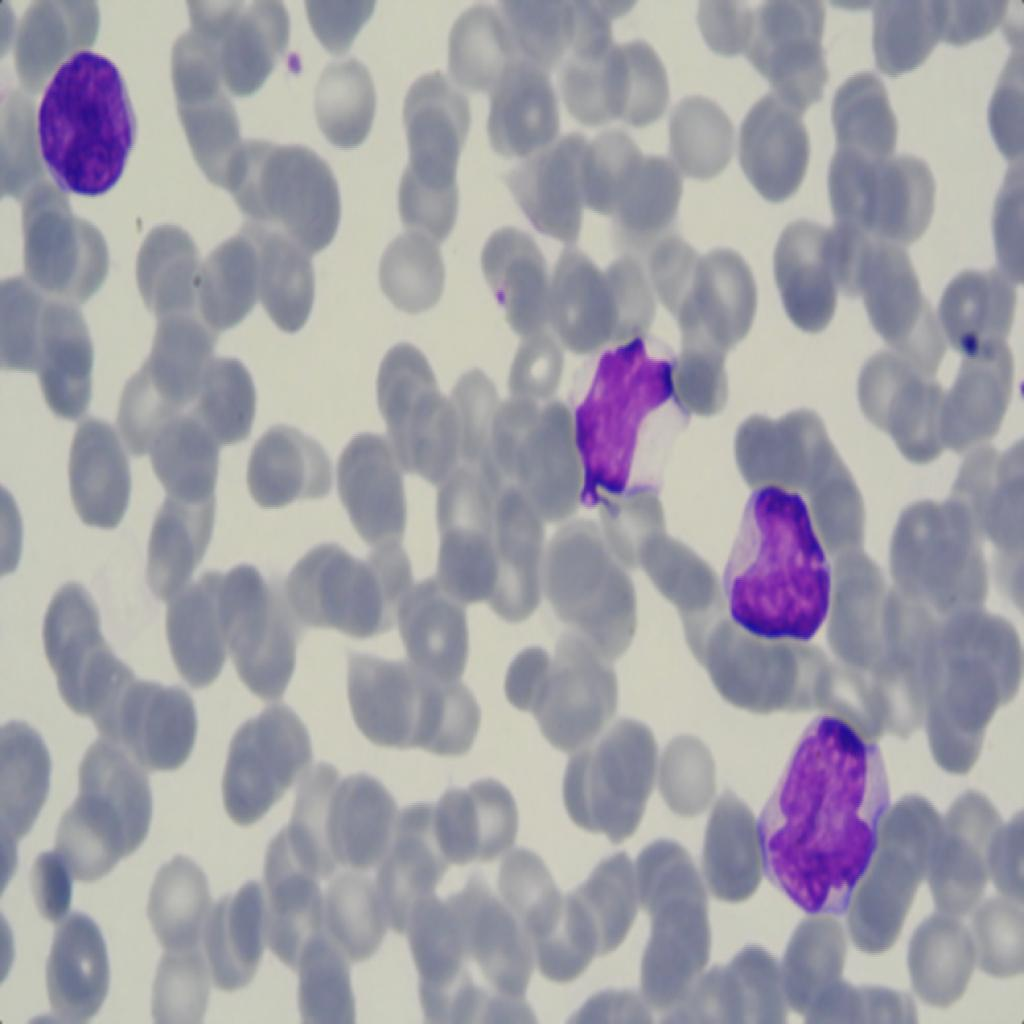Myeoblast: (757, 714, 881, 908), (24, 20, 145, 201), (714, 454, 828, 629), (575, 320, 671, 515)
Platelet: (945, 320, 979, 365), (274, 39, 302, 91), (492, 270, 512, 308)
